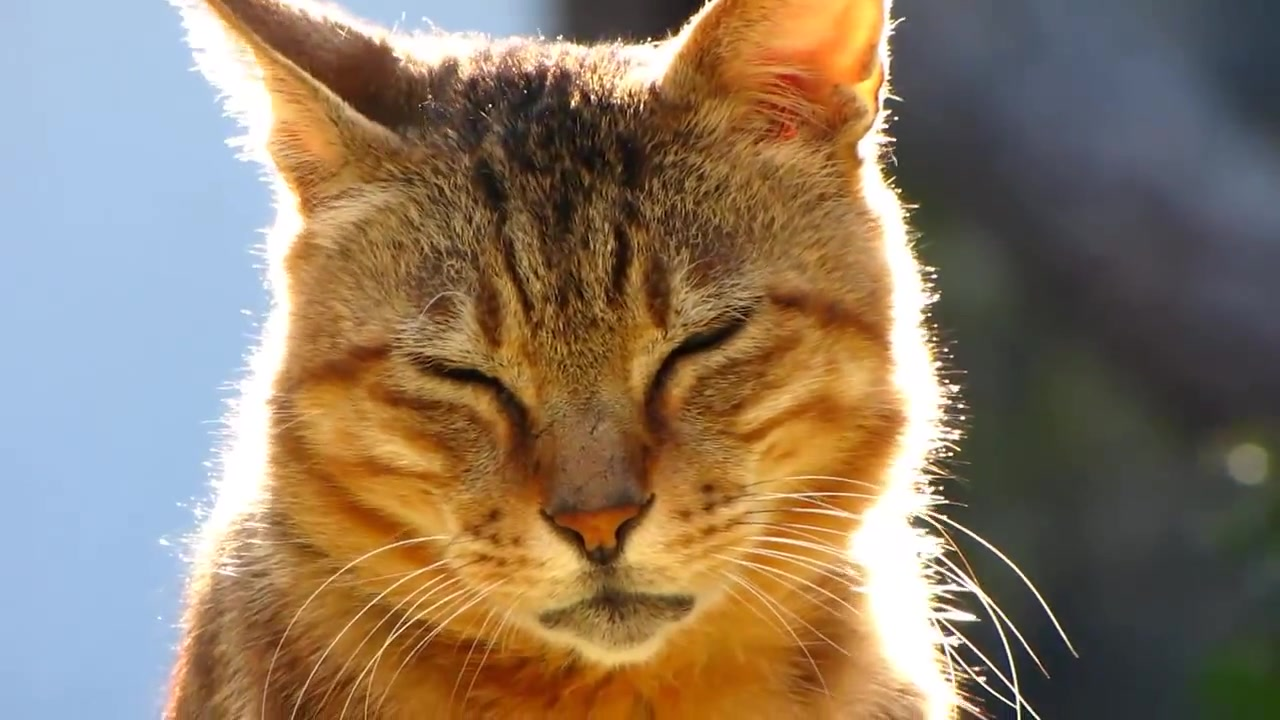cat: (156, 2, 960, 720)
